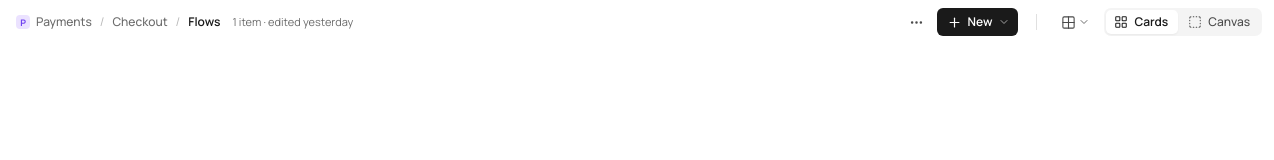
Test: pressing the header path (#231 D3, T11) › Cards ancestor → that folder view, requests focus on the new h1
Click the button "Checkout" at (140, 22), box [106,9,174,35]
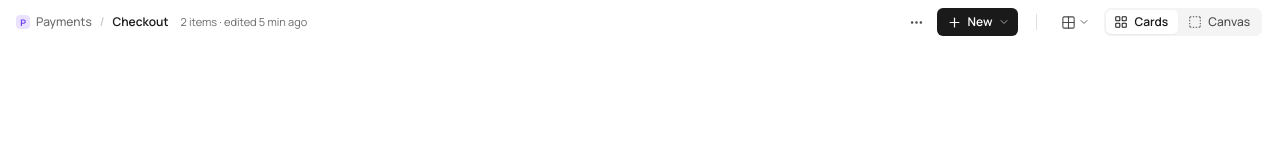
expect the heading reads "Checkout": met, box [112,13,168,30]
